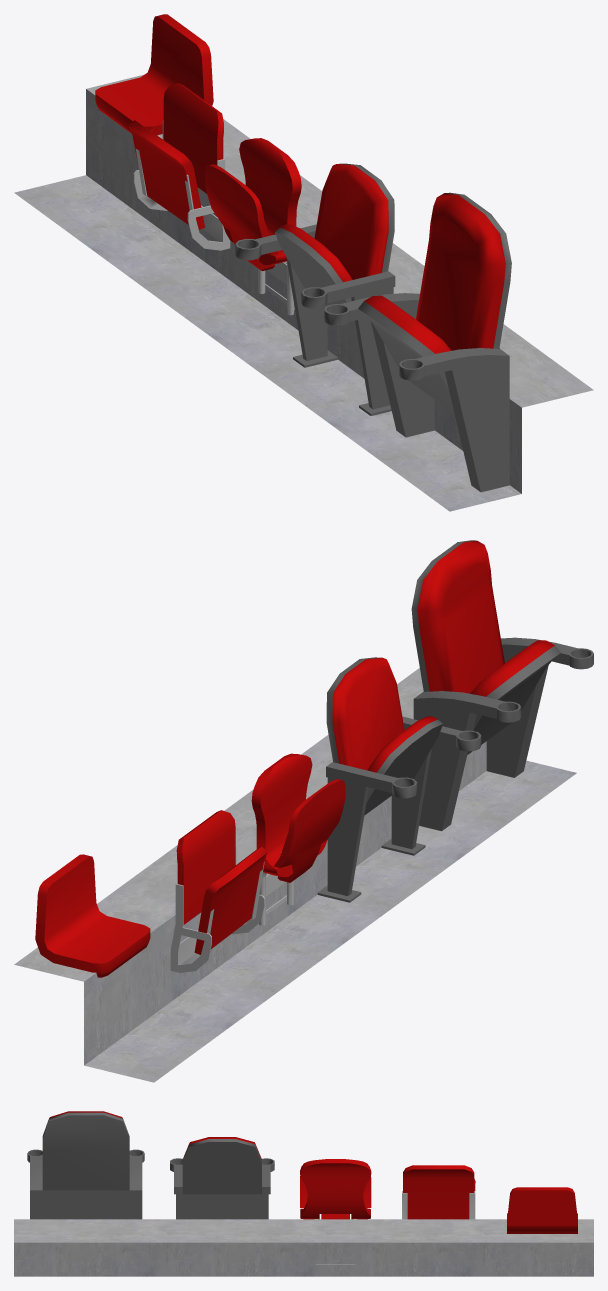
File: estadio-assento-fileira.glb
3 views of the same model, one above another, from view 1: azimuth 30°, elevation 25°; view 2: azimuth 150°, elevation 25°; view 3: azimuth 270°, elevation 25° (orthographic). The views are drawn at different scales.
Visible parts, largest first — view 1: estadio-assento-fileira; view 2: estadio-assento-fileira; view 3: estadio-assento-fileira.
Part boxes in pixels (<box>): estadio-assento-fileira: <box>14,14,593,511</box>; estadio-assento-fileira: <box>14,540,593,1082</box>; estadio-assento-fileira: <box>14,1111,593,1276</box>.
Size of the model in its own units: 0.6684 by 0.9 by 2.86.
Materials: 5 (1 with a texture image).
